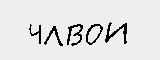В: (65, 22, 85, 47)
И: (105, 21, 127, 44)
Л: (45, 25, 63, 46)
О: (84, 22, 103, 47)
Ч: (27, 24, 43, 44)
